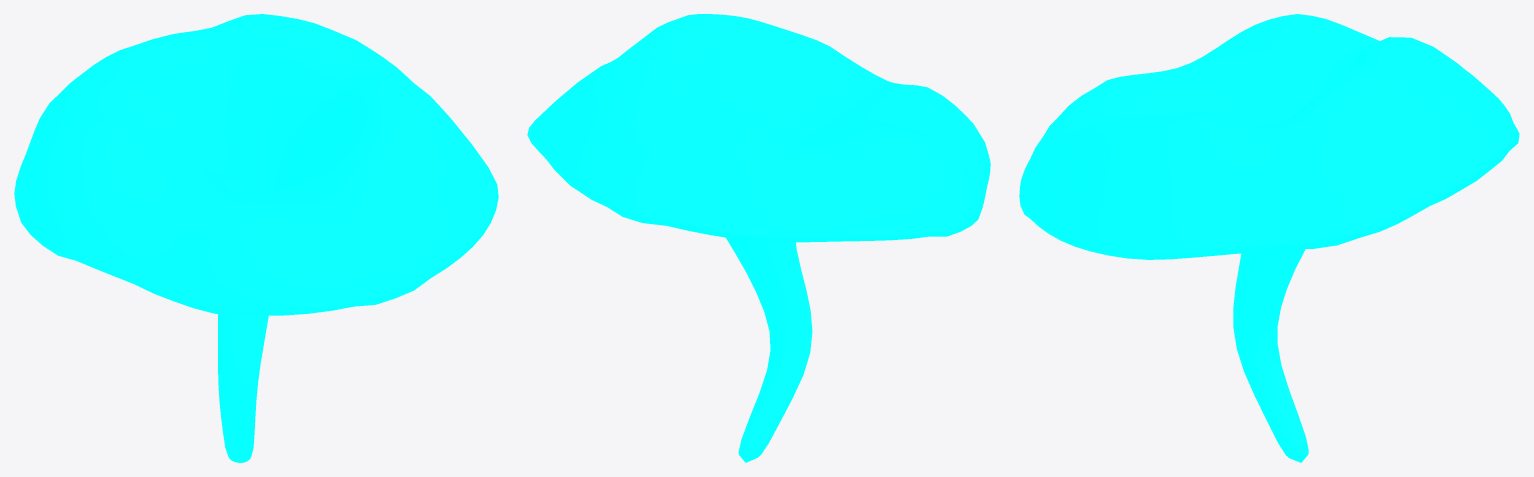
The model's file is mushroombluepink_small.fbx.
The picture shows the model from 3 angles, left to right: view 1: azimuth 30°, elevation 25°; view 2: azimuth 150°, elevation 25°; view 3: azimuth 270°, elevation 25°; orthographic projection. The views are drawn at different scales.
Parts seen in each view (by area): view 1: mushroom_musgrave.002; view 2: mushroom_musgrave.002; view 3: mushroom_musgrave.002.
Boxes of the visible parts, x1,y1,x2,y2 form: mushroom_musgrave.002: [14, 14, 498, 462]; mushroom_musgrave.002: [527, 14, 990, 462]; mushroom_musgrave.002: [1019, 14, 1519, 462].
Size of the model in its own units: 8.26 by 7.86 by 8.57.
